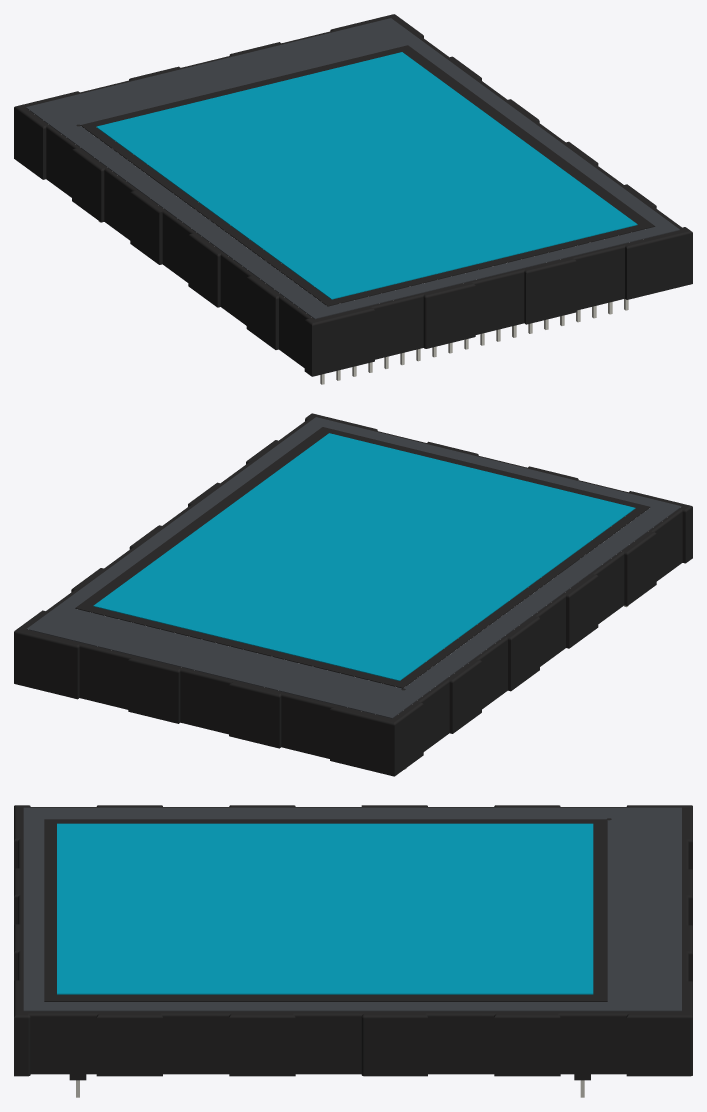
File: kc-ea_ediptft32-xxx.glb
3 views of the same model, one above another, from view 1: azimuth 30°, elevation 25°; view 2: azimuth 150°, elevation 25°; view 3: azimuth 270°, elevation 25° (orthographic). The views are drawn at different scales.
Parts seen in each view (by area): view 1: 0_0.3333333333333333_0.5_0, 0_0_0_0, 0.08333333333333333_0.08333333333333333_0.08333333333333333_, 0.6666666666666666_0.6666666666666666_0.5833333333333334_0.8; view 2: 0_0.3333333333333333_0.5_0, 0_0_0_0, 0.08333333333333333_0.08333333333333333_0.08333333333333333_; view 3: 0_0.3333333333333333_0.5_0, 0_0_0_0, 0.08333333333333333_0.08333333333333333_0.08333333333333333_.
Boxes of the visible parts, x1,y1,x2,y2 form: 0_0.3333333333333333_0.5_0: (96, 52, 637, 299); 0_0_0_0: (14, 14, 692, 376); 0.08333333333333333_0.08333333333333333_0.08333333333333333_: (26, 18, 679, 319); 0.6666666666666666_0.6666666666666666_0.5833333333333334_0.8: (98, 221, 628, 384); 0_0.3333333333333333_0.5_0: (93, 433, 635, 680); 0_0_0_0: (14, 413, 692, 776); 0.08333333333333333_0.08333333333333333_0.08333333333333333_: (26, 417, 681, 718); 0_0.3333333333333333_0.5_0: (57, 823, 593, 994); 0_0_0_0: (14, 805, 692, 1080); 0.08333333333333333_0.08333333333333333_0.08333333333333333_: (23, 807, 681, 1011).
Size of the model in its own units: 6.05 by 1.39 by 8.2.
